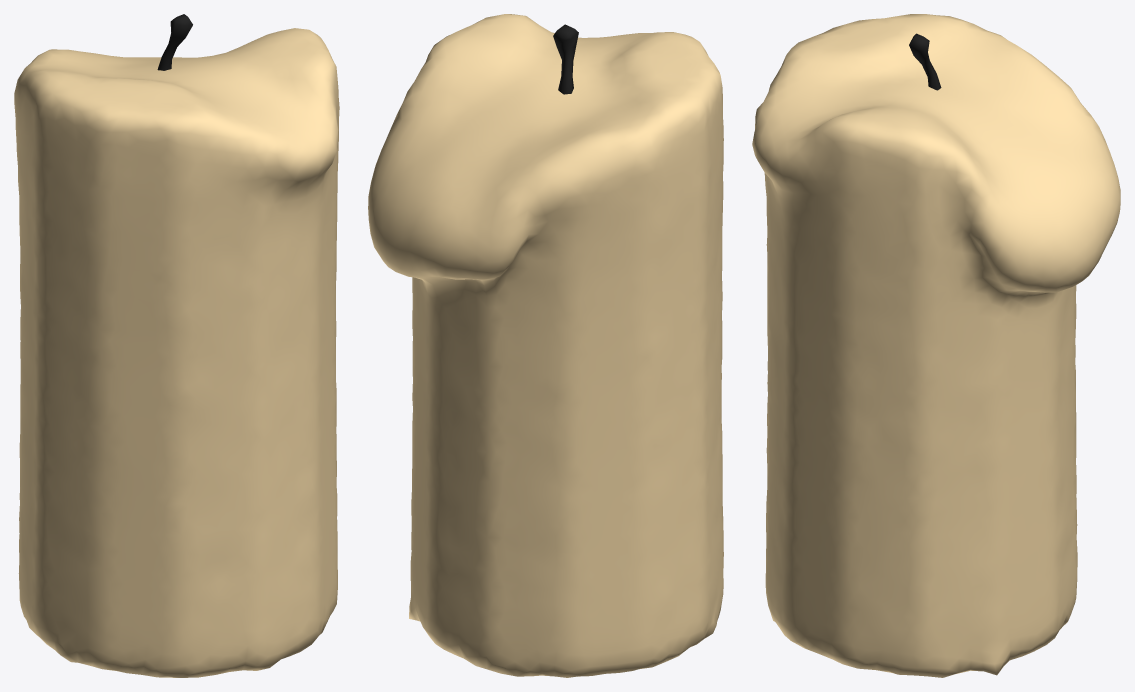
The model's file is SM_Melted_Candle_02.fbx.
3 views of the same model, side by side, from view 1: azimuth 30°, elevation 25°; view 2: azimuth 150°, elevation 25°; view 3: azimuth 270°, elevation 25° (orthographic). The views are drawn at different scales.
Parts seen in each view (by area): view 1: Candle_Export; view 2: Candle_Export; view 3: Candle_Export.
Part boxes in pixels (x1,y1,x2,y2): Candle_Export: (14,14,339,677); Candle_Export: (368,14,723,677); Candle_Export: (752,14,1120,677).
Size of the model in its own units: 5.55 by 10.91 by 6.25.
